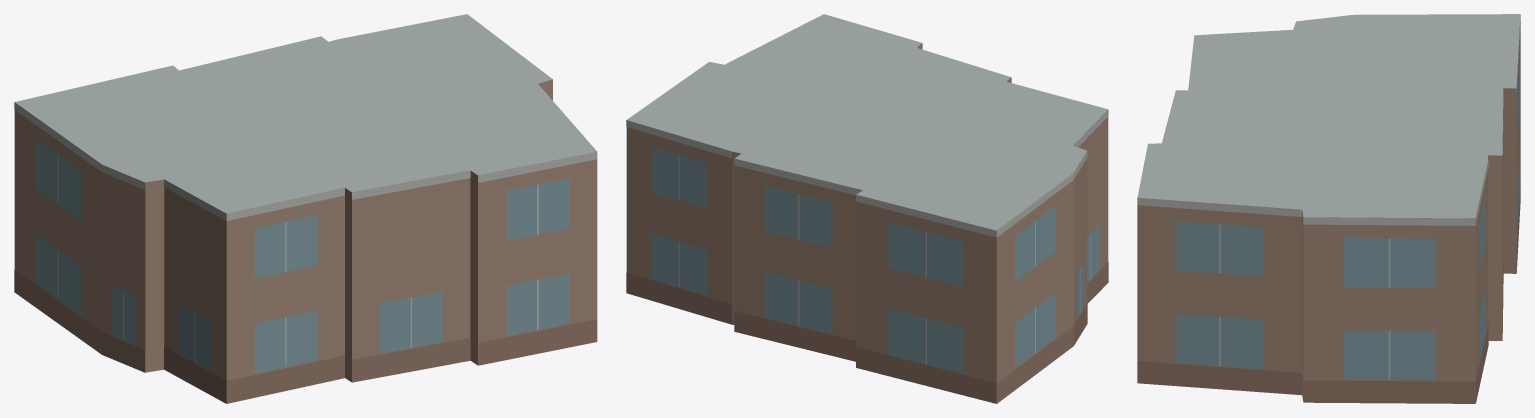
The model's file is survey-upis-32883183.glb.
The picture shows the model from 3 angles, left to right: view 1: azimuth 30°, elevation 25°; view 2: azimuth 150°, elevation 25°; view 3: azimuth 270°, elevation 25°; orthographic projection. The views are drawn at different scales.
Visible parts, largest first — view 1: survey-upis-32883183.tmp; view 2: survey-upis-32883183.tmp; view 3: survey-upis-32883183.tmp.
Part boxes in pixels (x1,y1,x2,y2): survey-upis-32883183.tmp: [14, 14, 597, 403]; survey-upis-32883183.tmp: [626, 14, 1108, 403]; survey-upis-32883183.tmp: [1137, 14, 1520, 403].
Size of the model in its own units: 14.43 by 6.1 by 11.43.
